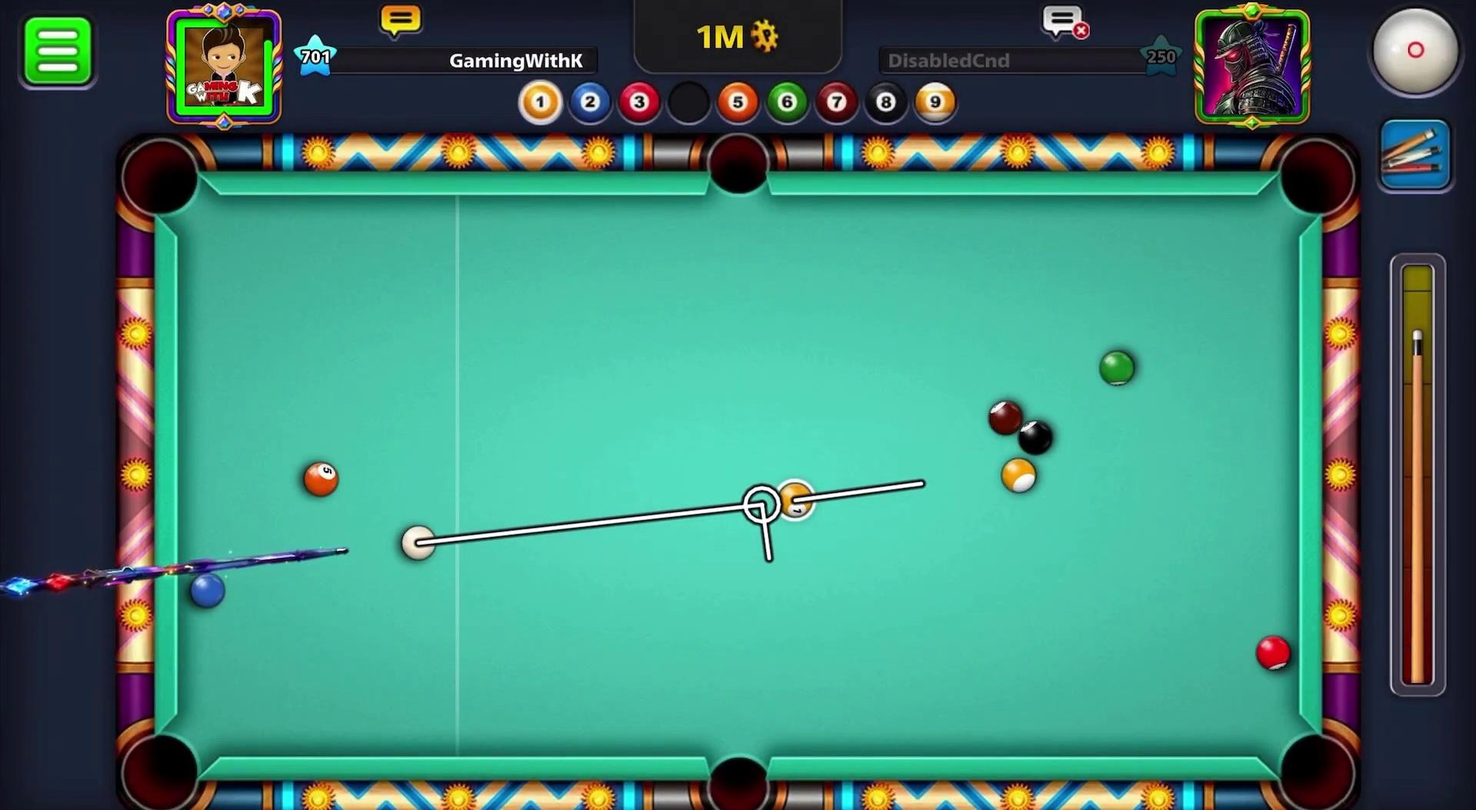Ball: (993, 450, 1044, 502), (292, 456, 346, 503), (178, 568, 231, 615), (1011, 415, 1061, 461), (982, 393, 1028, 440), (1096, 344, 1142, 390), (771, 476, 818, 521), (1254, 632, 1294, 672)
Force: (1384, 251, 1455, 699)
Guideline: (401, 479, 925, 562)
Hole: (108, 129, 212, 230), (1268, 130, 1365, 231), (1266, 717, 1364, 809), (113, 724, 206, 809), (687, 738, 785, 809), (698, 124, 781, 205)
Play_Area: (182, 194, 1295, 762)
Spin: (1349, 0, 1475, 112)
White: (387, 521, 438, 569)
